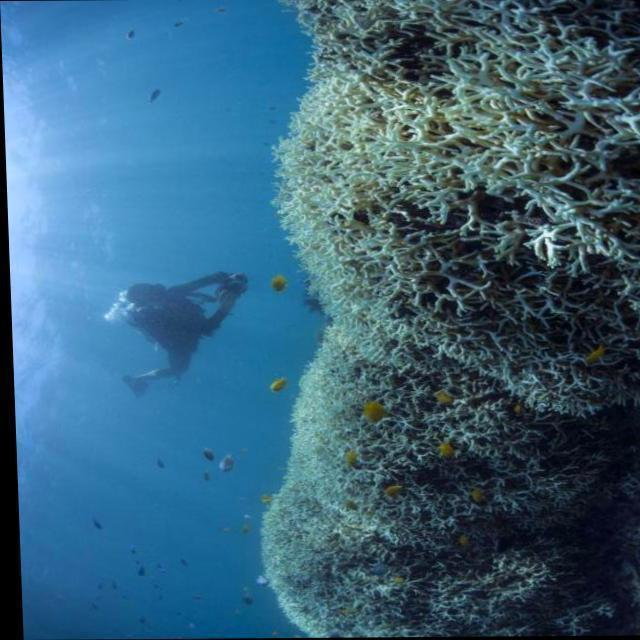Dead Coral: (259, 225, 640, 639), (294, 0, 445, 69)
